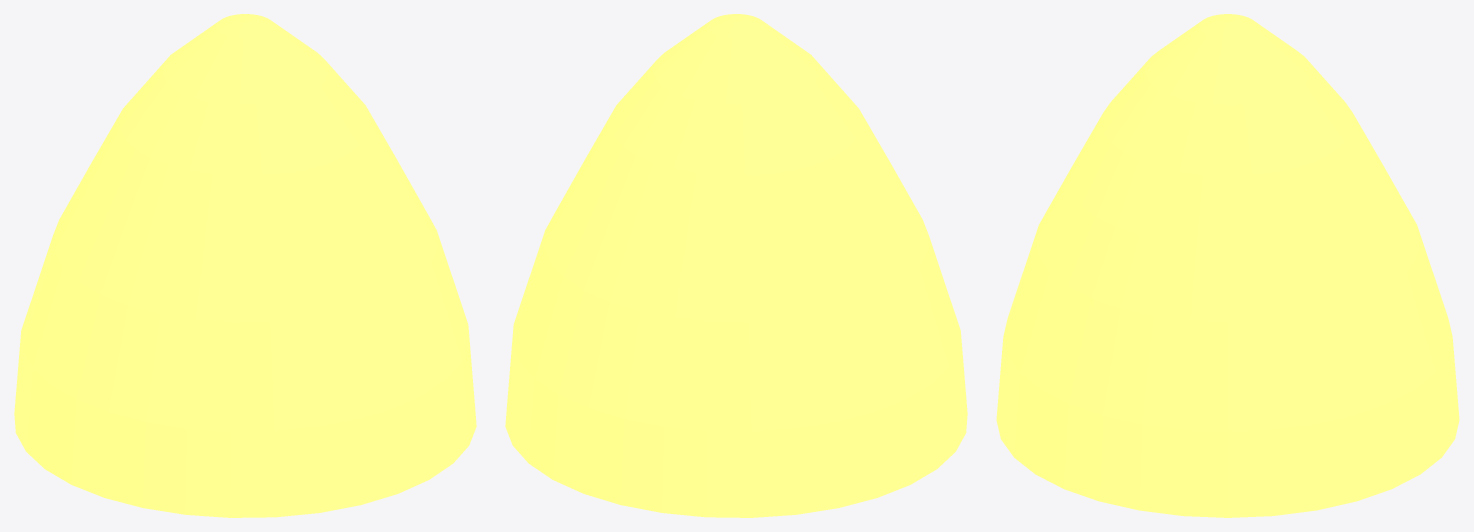
Rendered from AwlBullet.fbx.
3 renders of one model, left to right at view 1: azimuth 30°, elevation 25°; view 2: azimuth 150°, elevation 25°; view 3: azimuth 270°, elevation 25°, orthographic.
Visible parts, largest first — view 1: Border; view 2: Border; view 3: Border.
Boxes of the visible parts, box(x1,y1,x2,y2) form: Border: box(14, 14, 476, 517); Border: box(505, 14, 967, 517); Border: box(996, 14, 1459, 517).
Bounding box in the file's own units: 65.43 × 62.64 × 65.43.
Materials: 2 (2 with a texture image).
